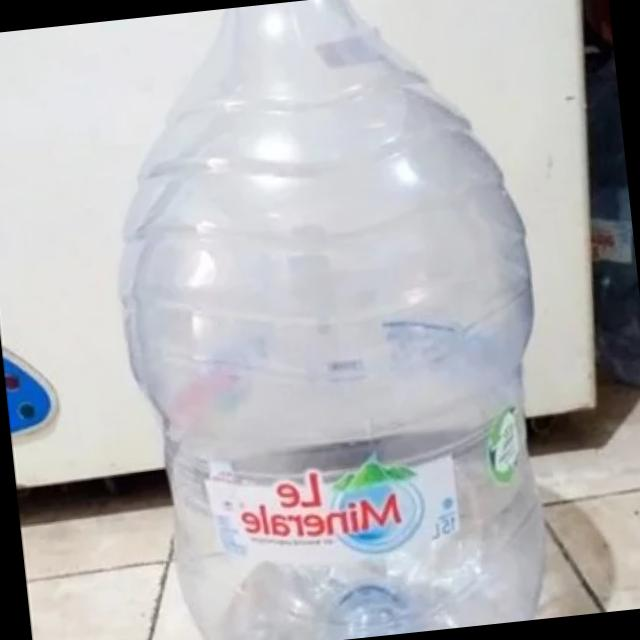Galon: (88, 0, 570, 640)
